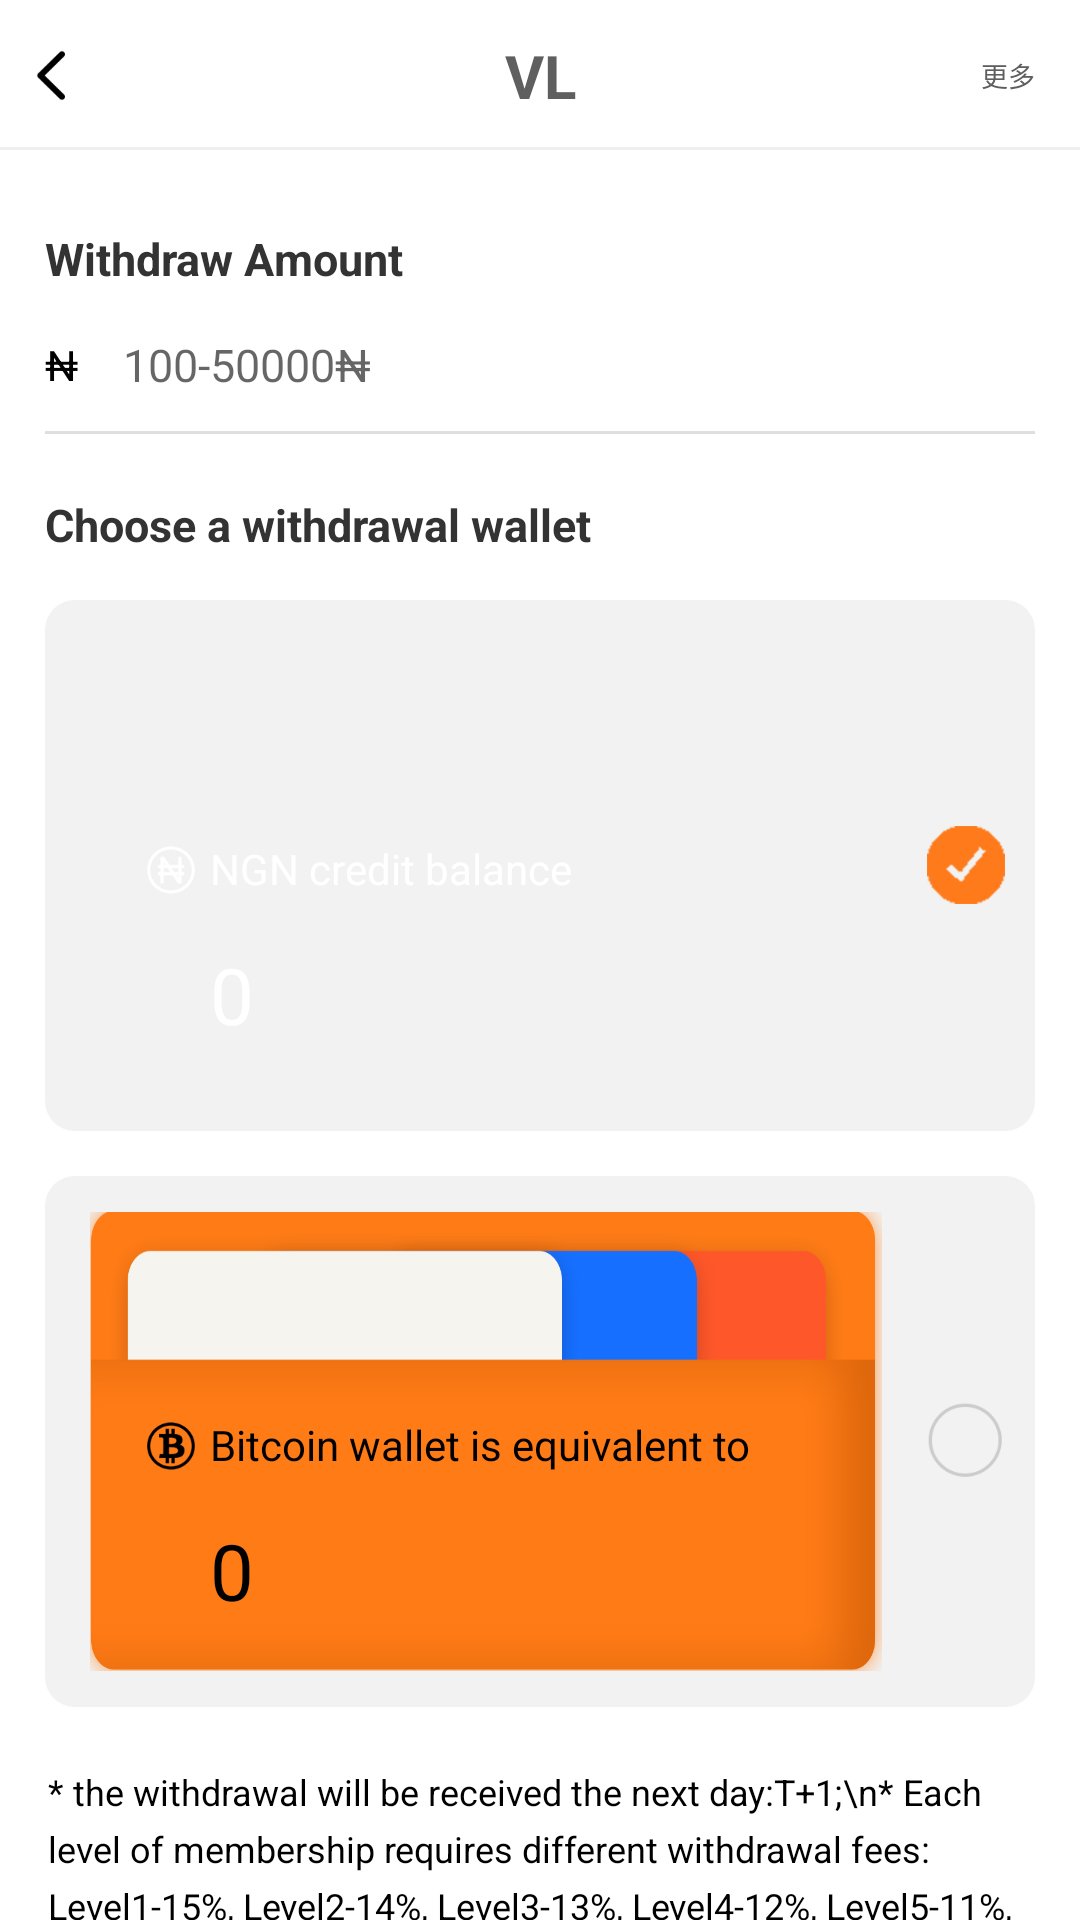

Icon bounding boxes for this 1080w x 1920h phone screenshot, format (x1, y1, x2, y2):
back: (37, 51, 65, 100)
check no: (929, 1404, 1002, 1477)
ion check: (927, 826, 1005, 904)
